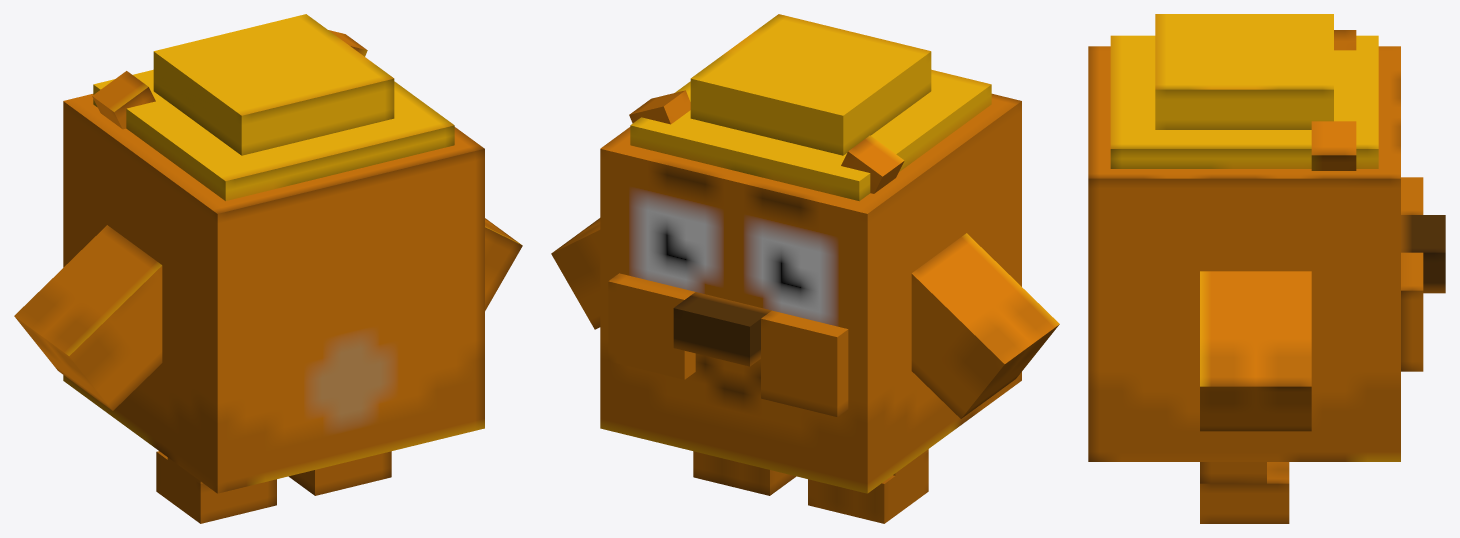
File: kapatich.glb
The picture shows the model from 3 angles, left to right: view 1: azimuth 30°, elevation 25°; view 2: azimuth 150°, elevation 25°; view 3: azimuth 270°, elevation 25°; orthographic projection.
Visible parts, largest first — view 1: cube, cube_13, cube_6, cube_12, cube_4, cube_1, cube_10, cube_5; view 2: cube, cube_13, cube_6, cube_12, cube_8, cube_9, cube_7, cube_4, cube_5, cube_1, cube_10, cube_11; view 3: cube, cube_13, cube_5, cube_12, cube_1, cube_9, cube_7, cube_11, cube_2, cube_8, cube_10.
Part boxes in pixels (x1,y1,x2,y2): cube: (63,94,484,493); cube_13: (153,14,394,155); cube_6: (14,225,162,410); cube_12: (93,69,454,201); cube_4: (156,451,276,523); cube_1: (288,451,391,495); cube_10: (92,71,155,129); cube_5: (485,218,522,310); cube: (600,93,1021,493); cube_13: (690,14,931,155); cube_6: (911,233,1059,418); cube_12: (630,69,991,201); cube_8: (761,310,848,416); cube_9: (608,273,695,379); cube_7: (673,292,771,366); cube_4: (808,452,928,523); cube_5: (551,218,600,329); cube_1: (693,451,796,495); cube_10: (841,135,904,193); cube_11: (629,90,690,124); cube: (1088,46,1400,461); cube_13: (1155,14,1333,129); cube_5: (1200,271,1311,431); cube_12: (1110,35,1378,168); cube_1: (1200,462,1289,523); cube_9: (1401,252,1423,371); cube_7: (1401,215,1445,293); cube_11: (1311,121,1356,170); cube_2: (1200,462,1266,483); cube_8: (1401,177,1423,214); cube_10: (1334,30,1356,50).
Bounding box in the file's own units: 0.1856 × 0.1641 × 0.125.
Materials: 1 (1 with a texture image).
